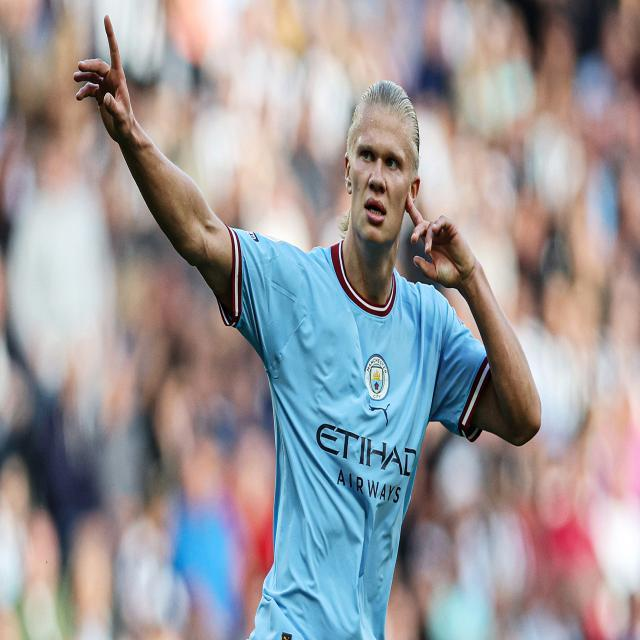Etihad Airways: (316, 423, 418, 506)
Puma: (368, 402, 391, 426)
